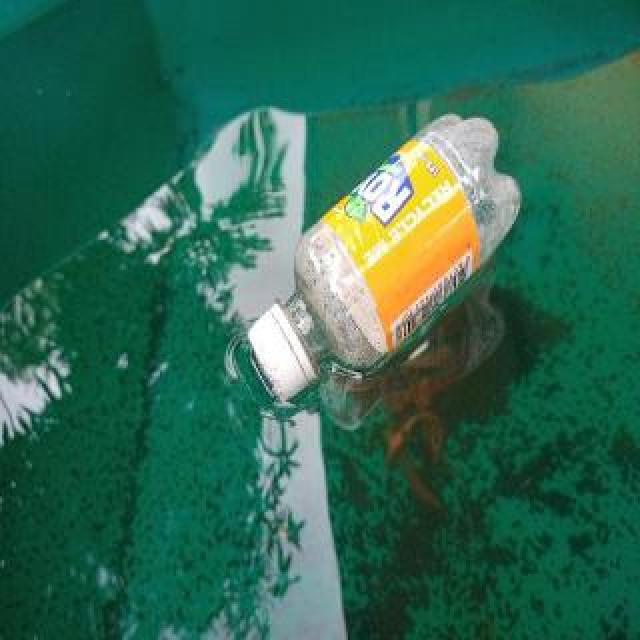Bottle: (244, 112, 524, 412)
